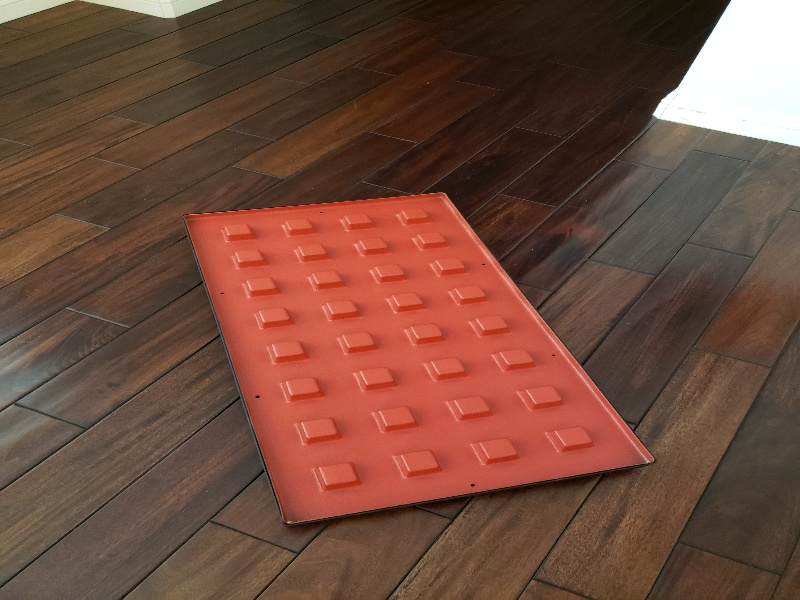skystone_base: (183, 189, 668, 530)
